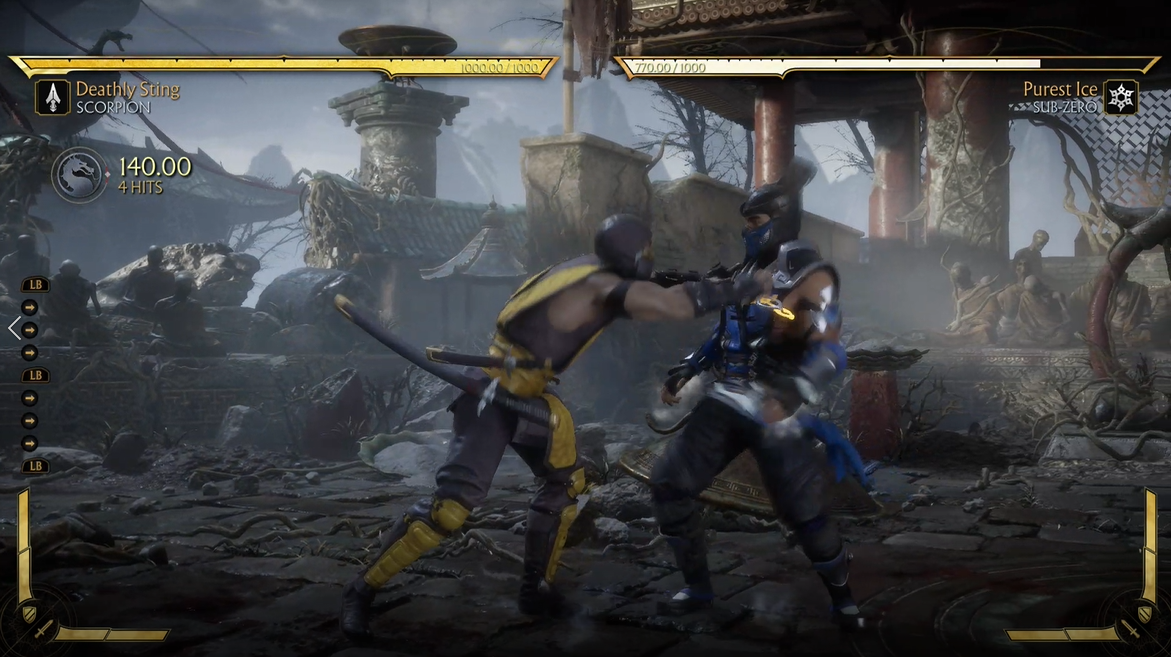grab: (324, 152, 941, 638)
